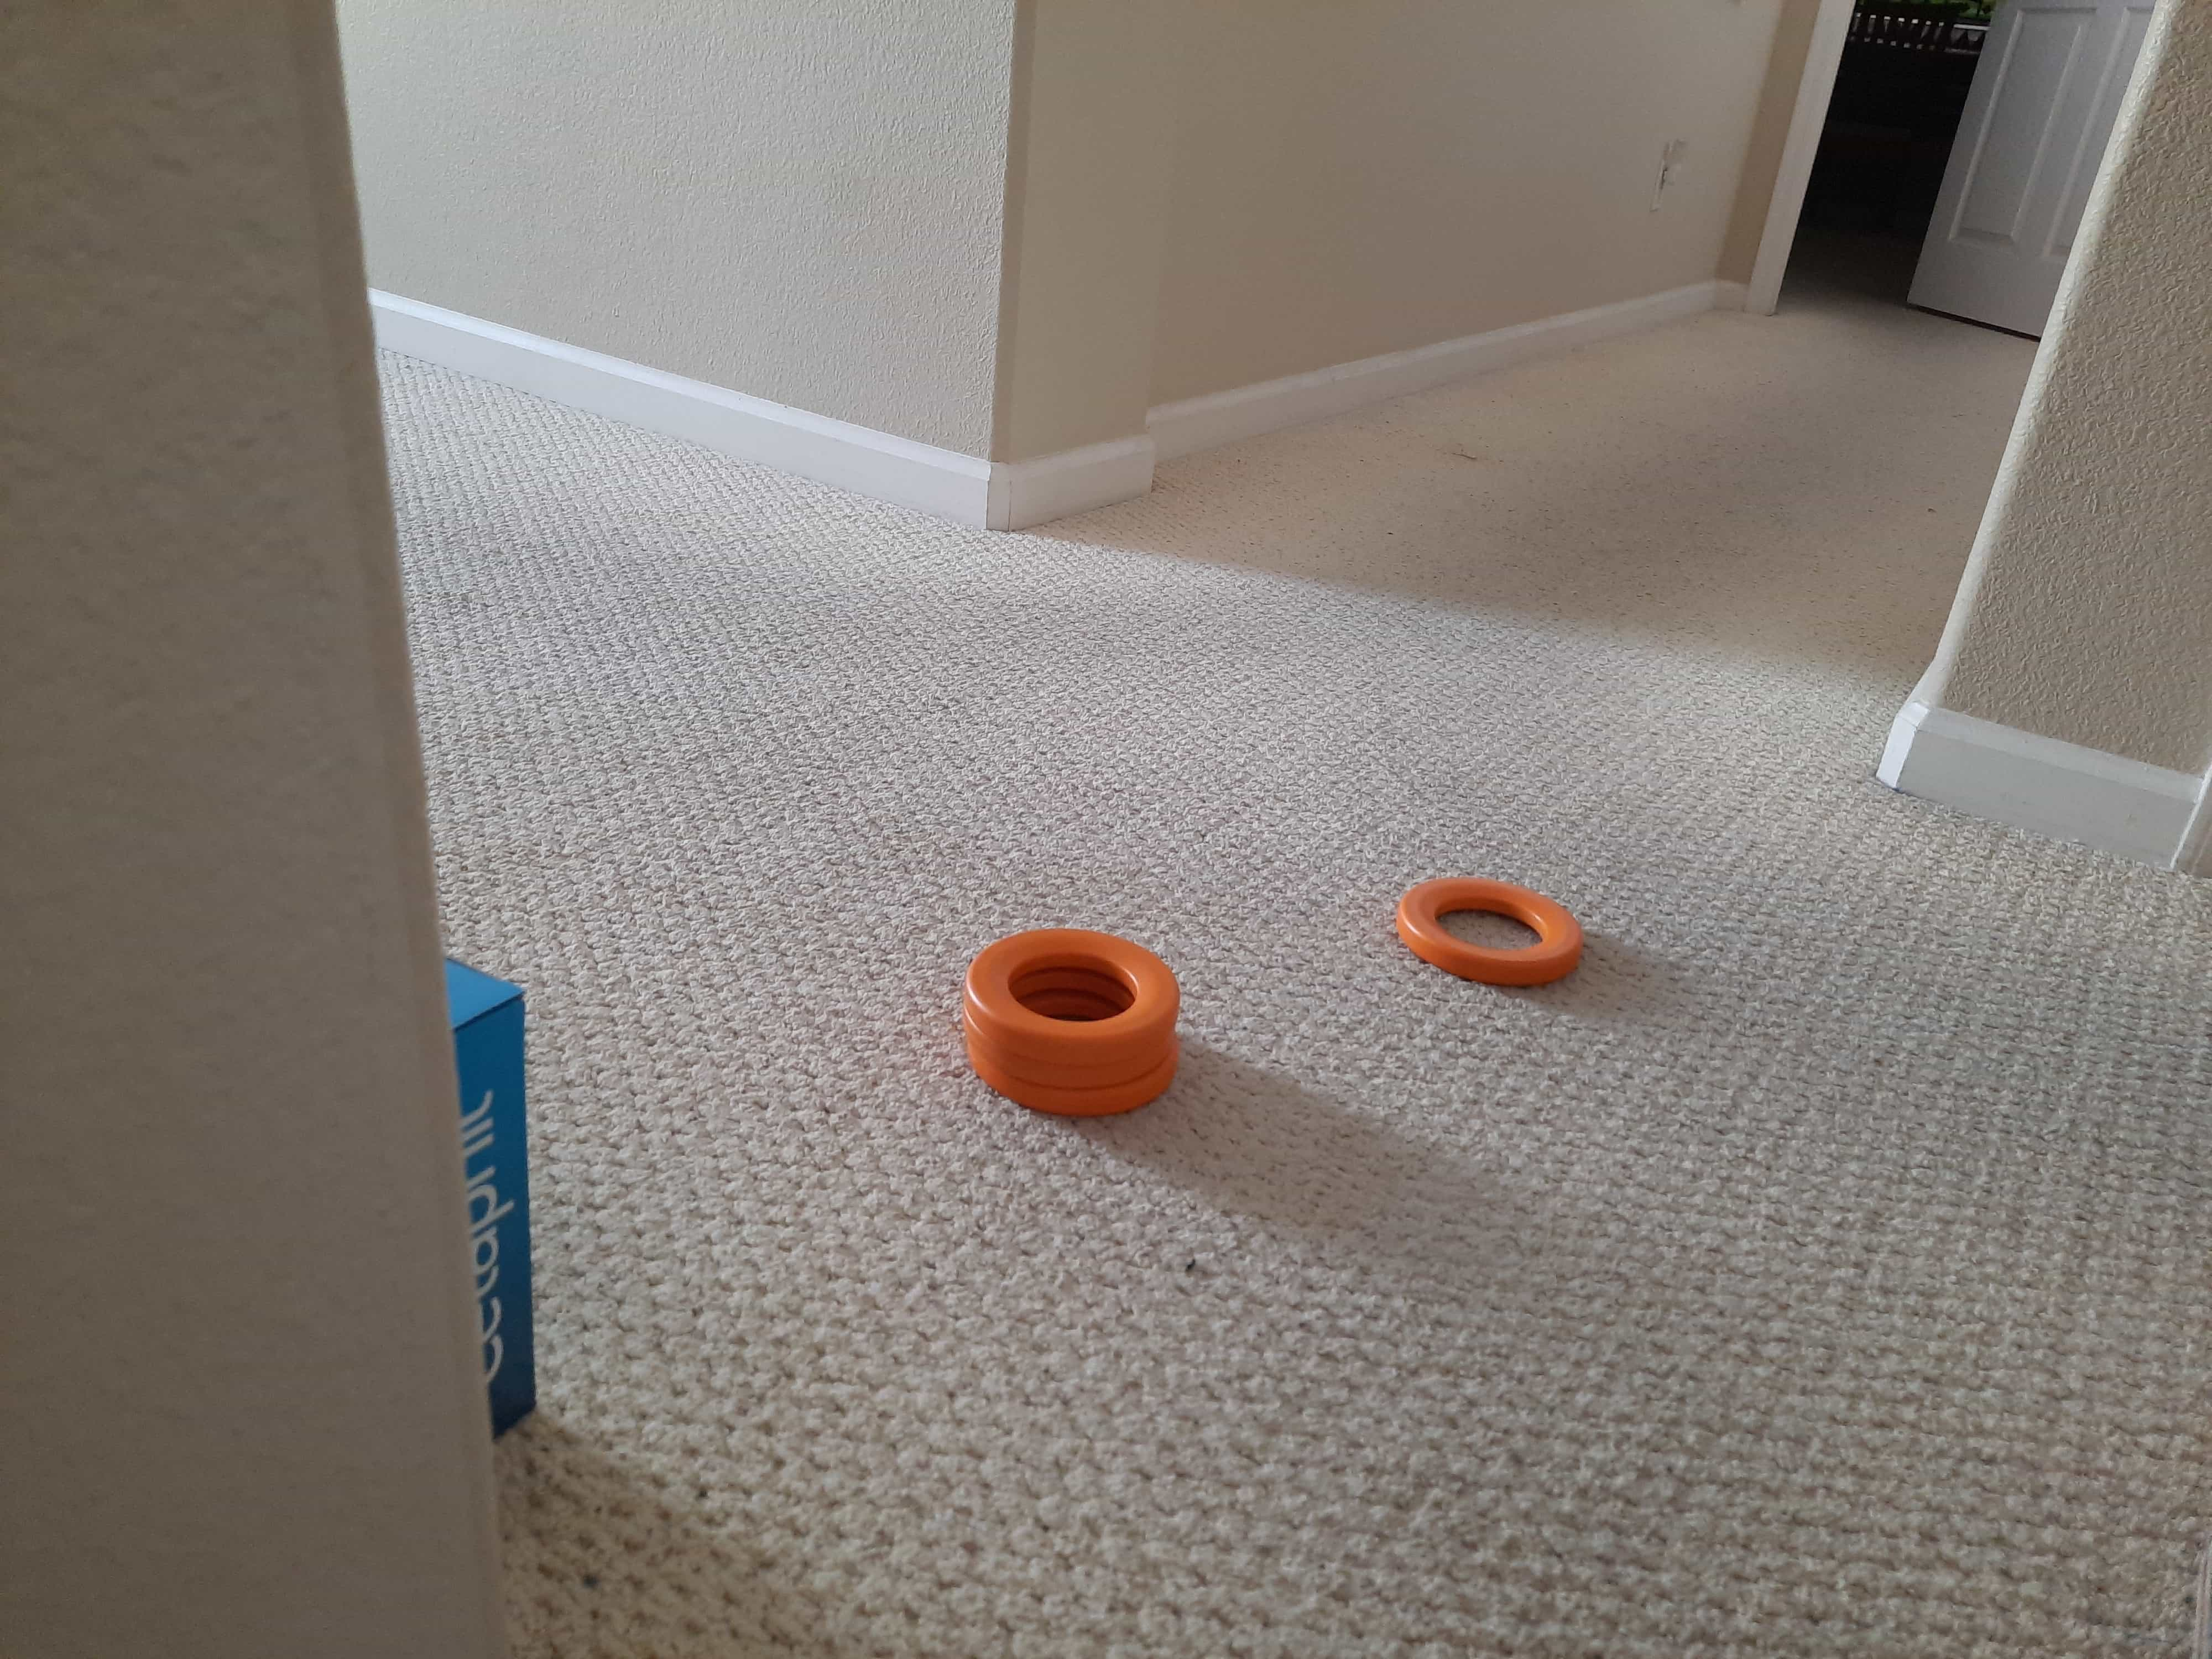FourStack: (963, 932, 1183, 1119)
OneStack: (1397, 870, 1587, 983)
